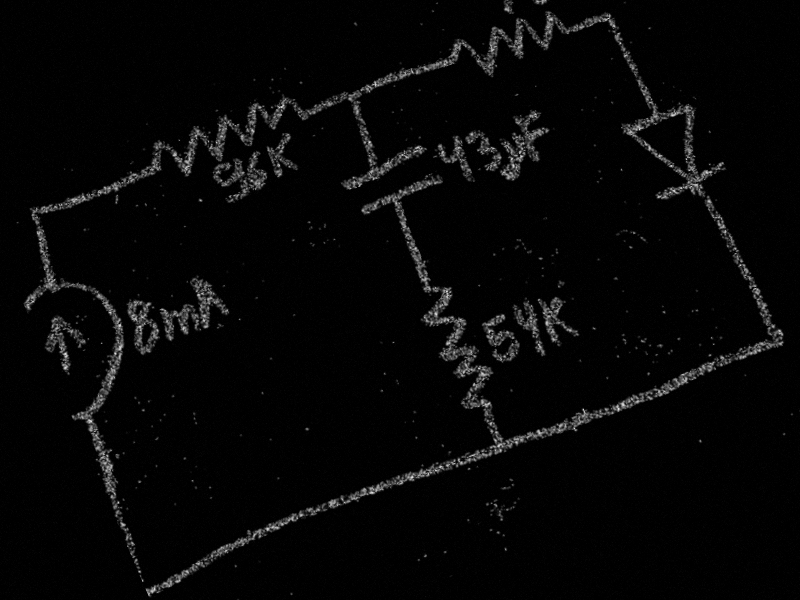3: (460, 123, 509, 179)
4: (507, 294, 556, 363), (431, 130, 482, 193)
5: (476, 309, 527, 369)
6: (237, 147, 275, 195)
7: (477, 0, 532, 21)
8: (114, 291, 172, 359)
9: (206, 155, 257, 209), (513, 0, 559, 10)
A: (182, 269, 236, 332)
F: (511, 105, 561, 164)
k: (533, 288, 583, 350), (260, 131, 305, 181), (540, 0, 599, 4)
m: (151, 295, 207, 346)
u: (494, 130, 537, 179)
